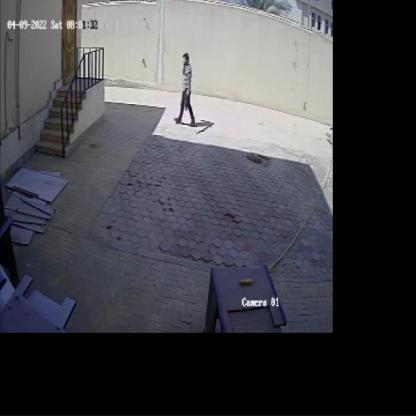handgun: (179, 84, 194, 113)
